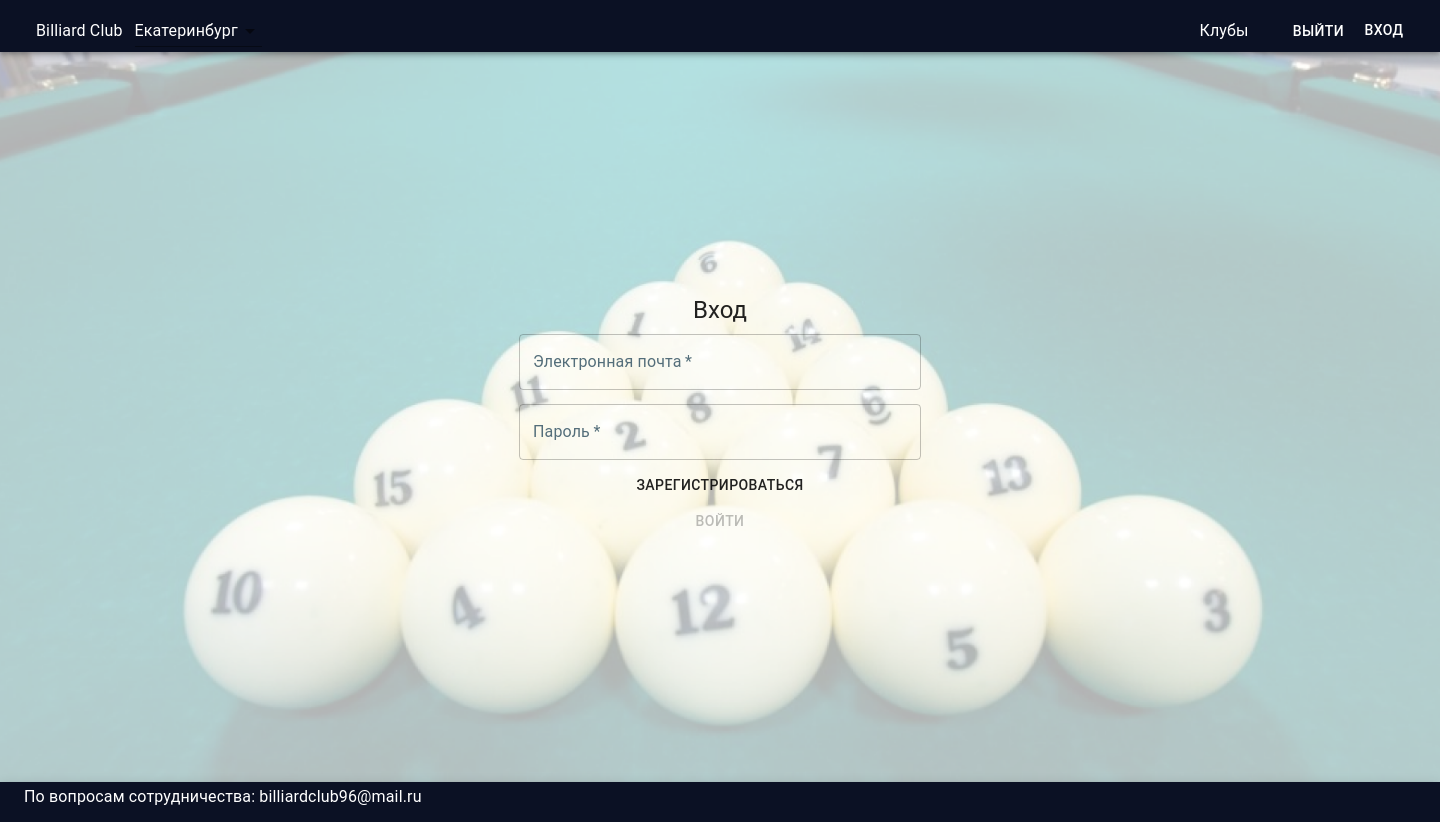
Auth tests › renders username after successful login
Step 1. Type "1" into the field with test id "login-input" → (720,362), box left=519, top=334, right=921, bottom=390
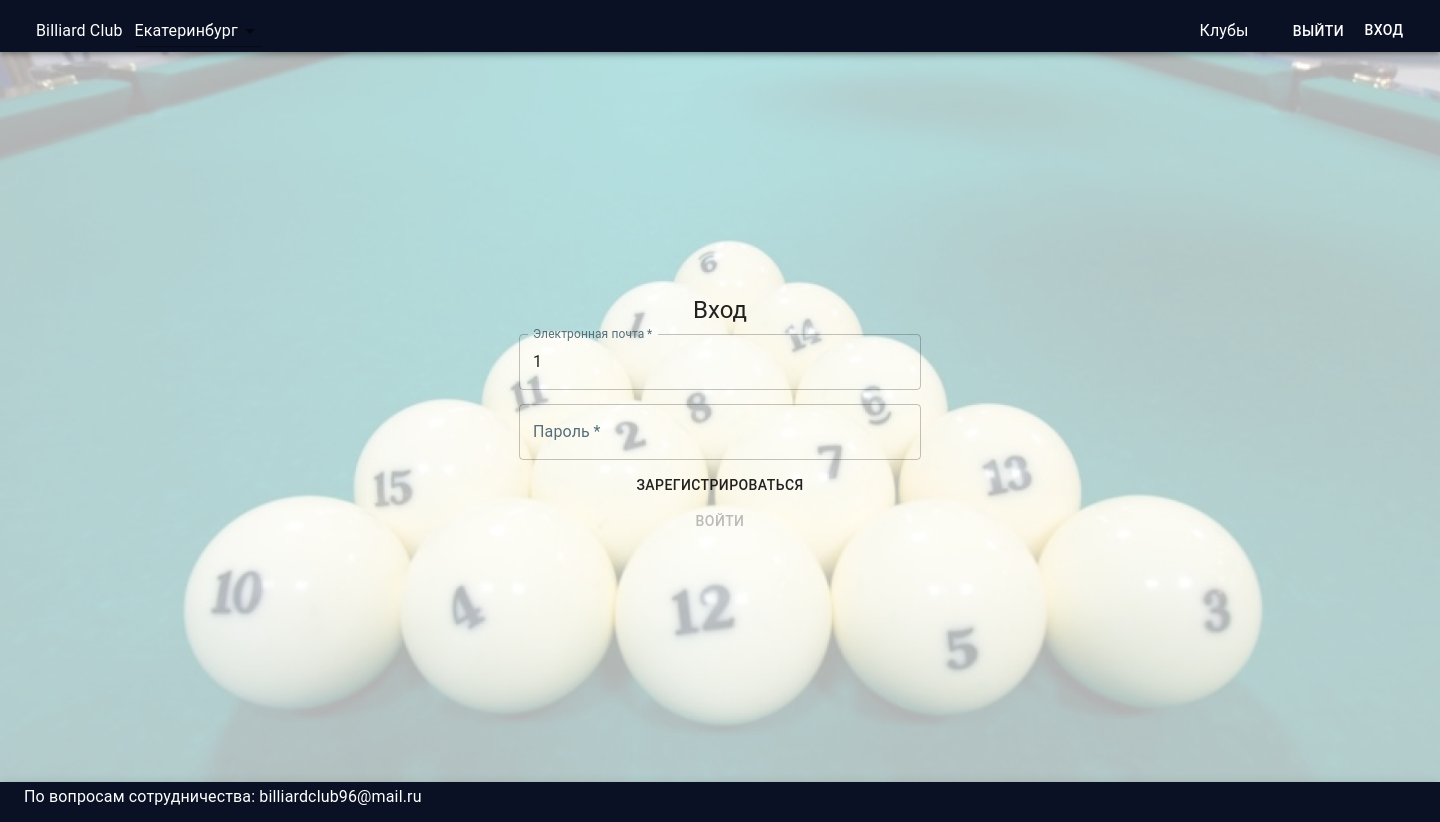
Step 2. Type "1" into the password field with test id "password-input" → (720,432), box left=519, top=404, right=921, bottom=460
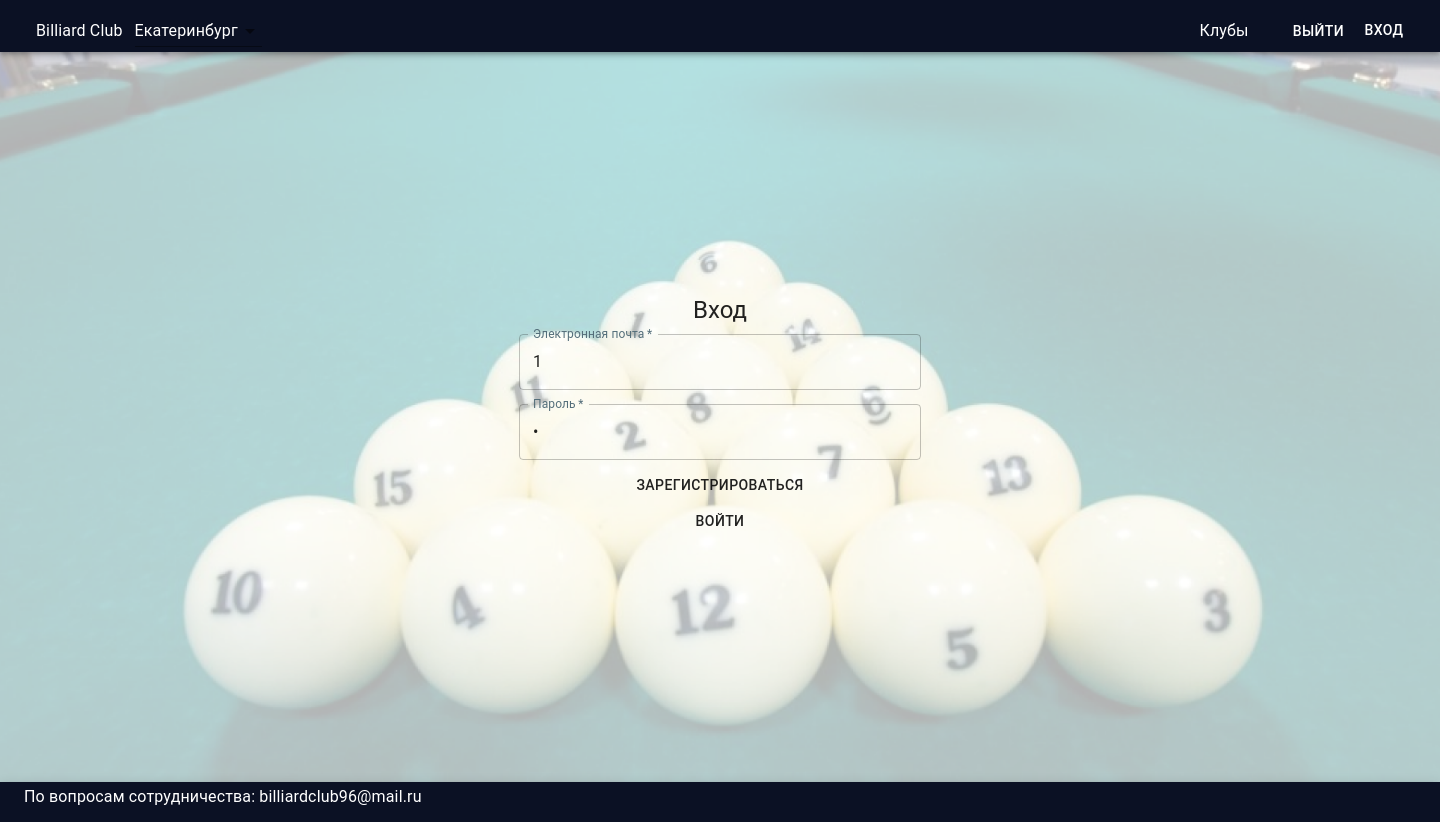
Step 3. Click the button with test id "submit" → (720,521), box left=688, top=503, right=752, bottom=540
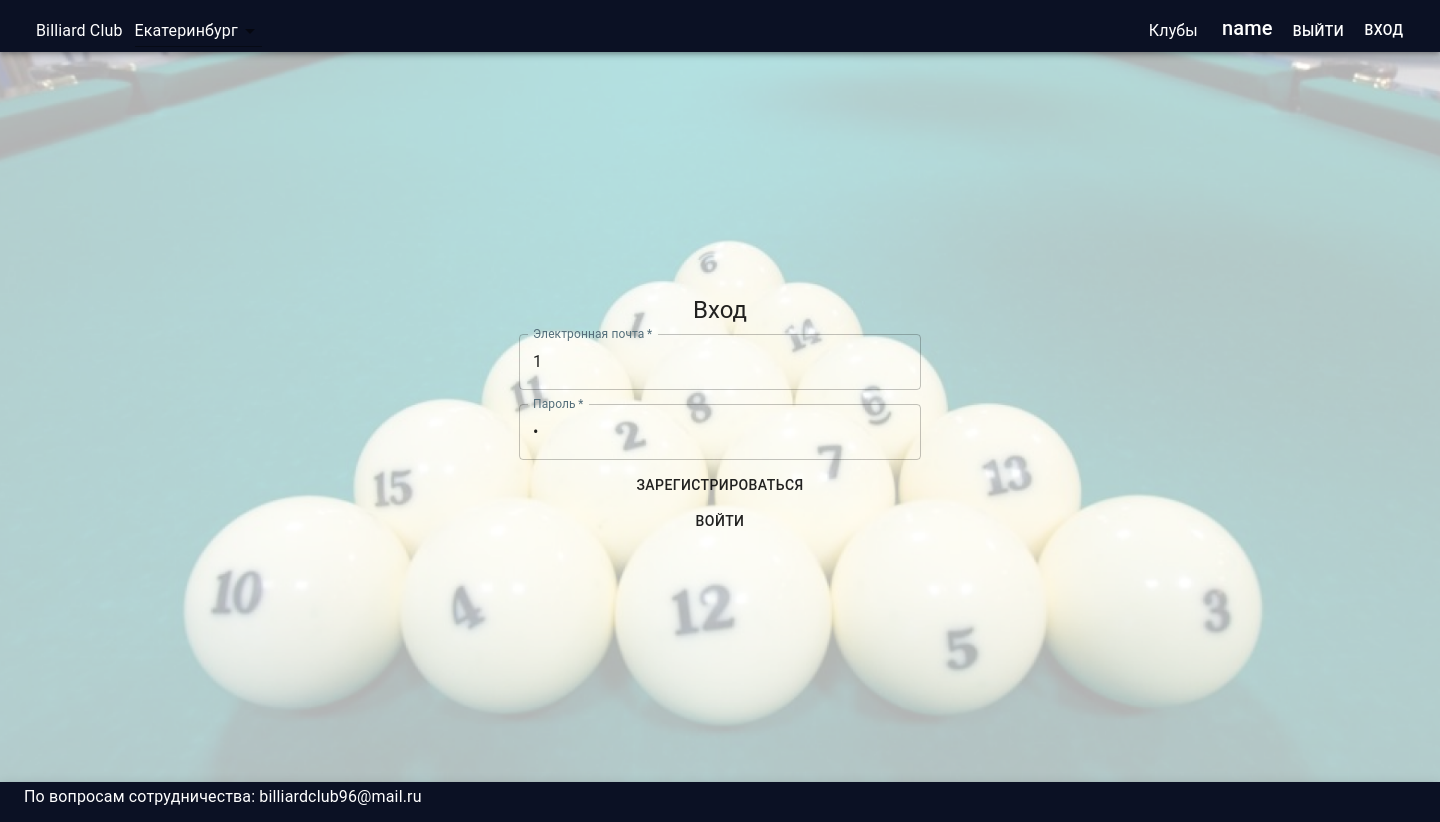
Check: the link "name" is shown, box left=1222, top=16, right=1273, bottom=40
